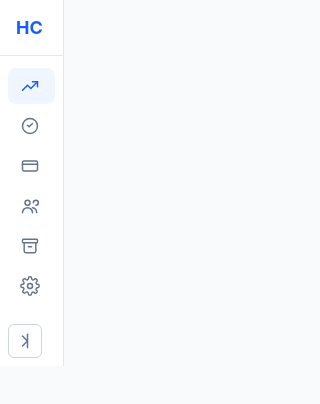
Test: Sidebar › отложенное закрытие одного раздела не закрывает другой, успевший открыться за это время
This screenshot has width=320, height=404.
Hover over the button named "Inventory".
mouse_move(32, 246)  # box [8,228,55,264]
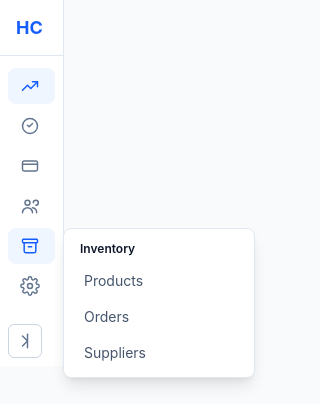
expect the button named "Inventory" is expanded: met, box [8,228,55,264]
Hover over the button named "Clients".
mouse_move(32, 206)  # box [8,188,55,224]
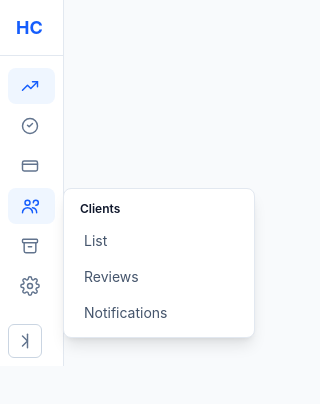
expect the button named "Clients" is expanded: met, box [8,188,55,224]
